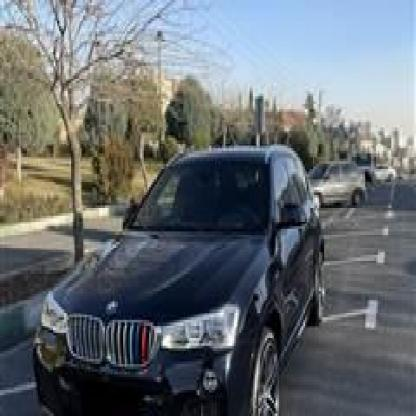Car: (27, 145, 327, 416), (297, 154, 376, 210)
